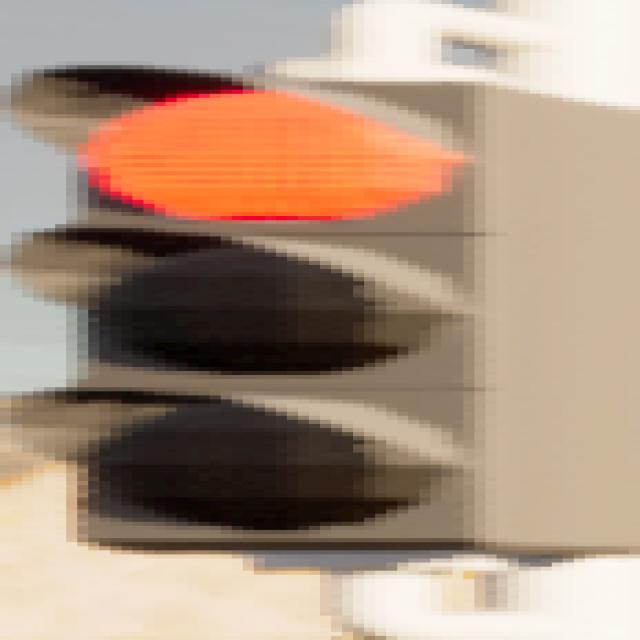red_light: (1, 45, 638, 560)
